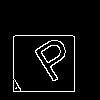P: (26, 27, 79, 84)
